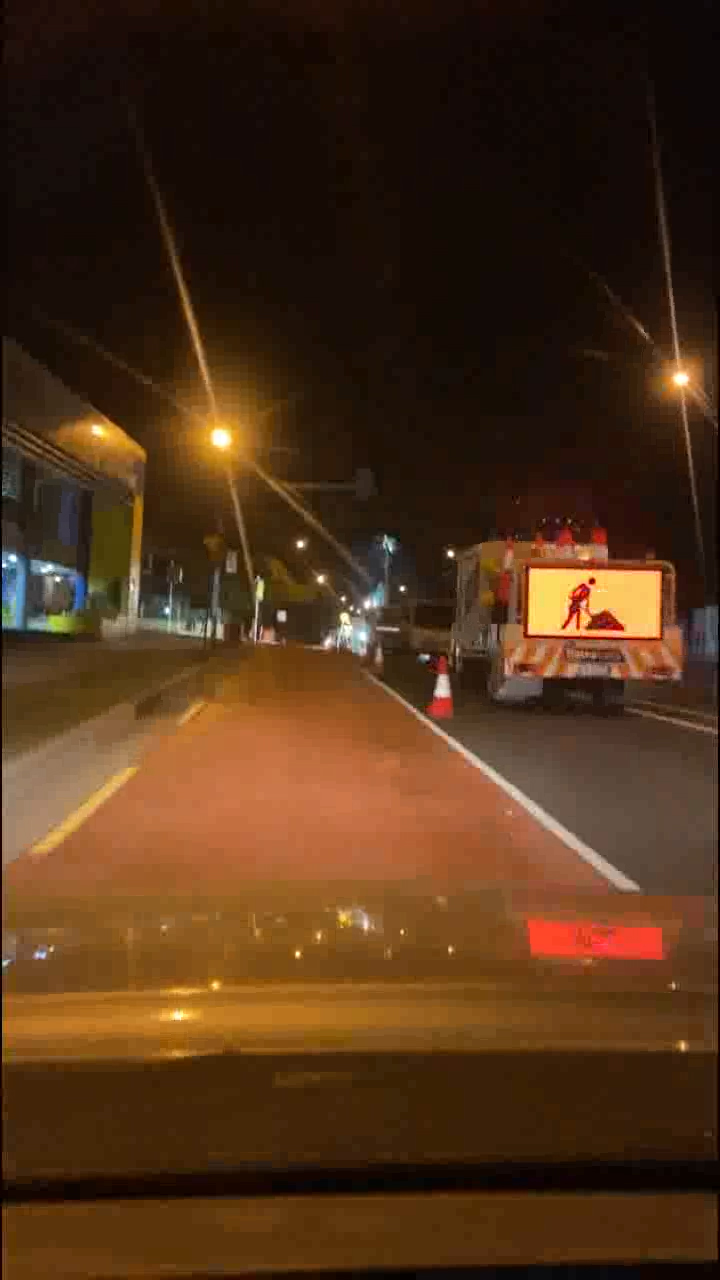truck: (420, 517, 675, 709)
